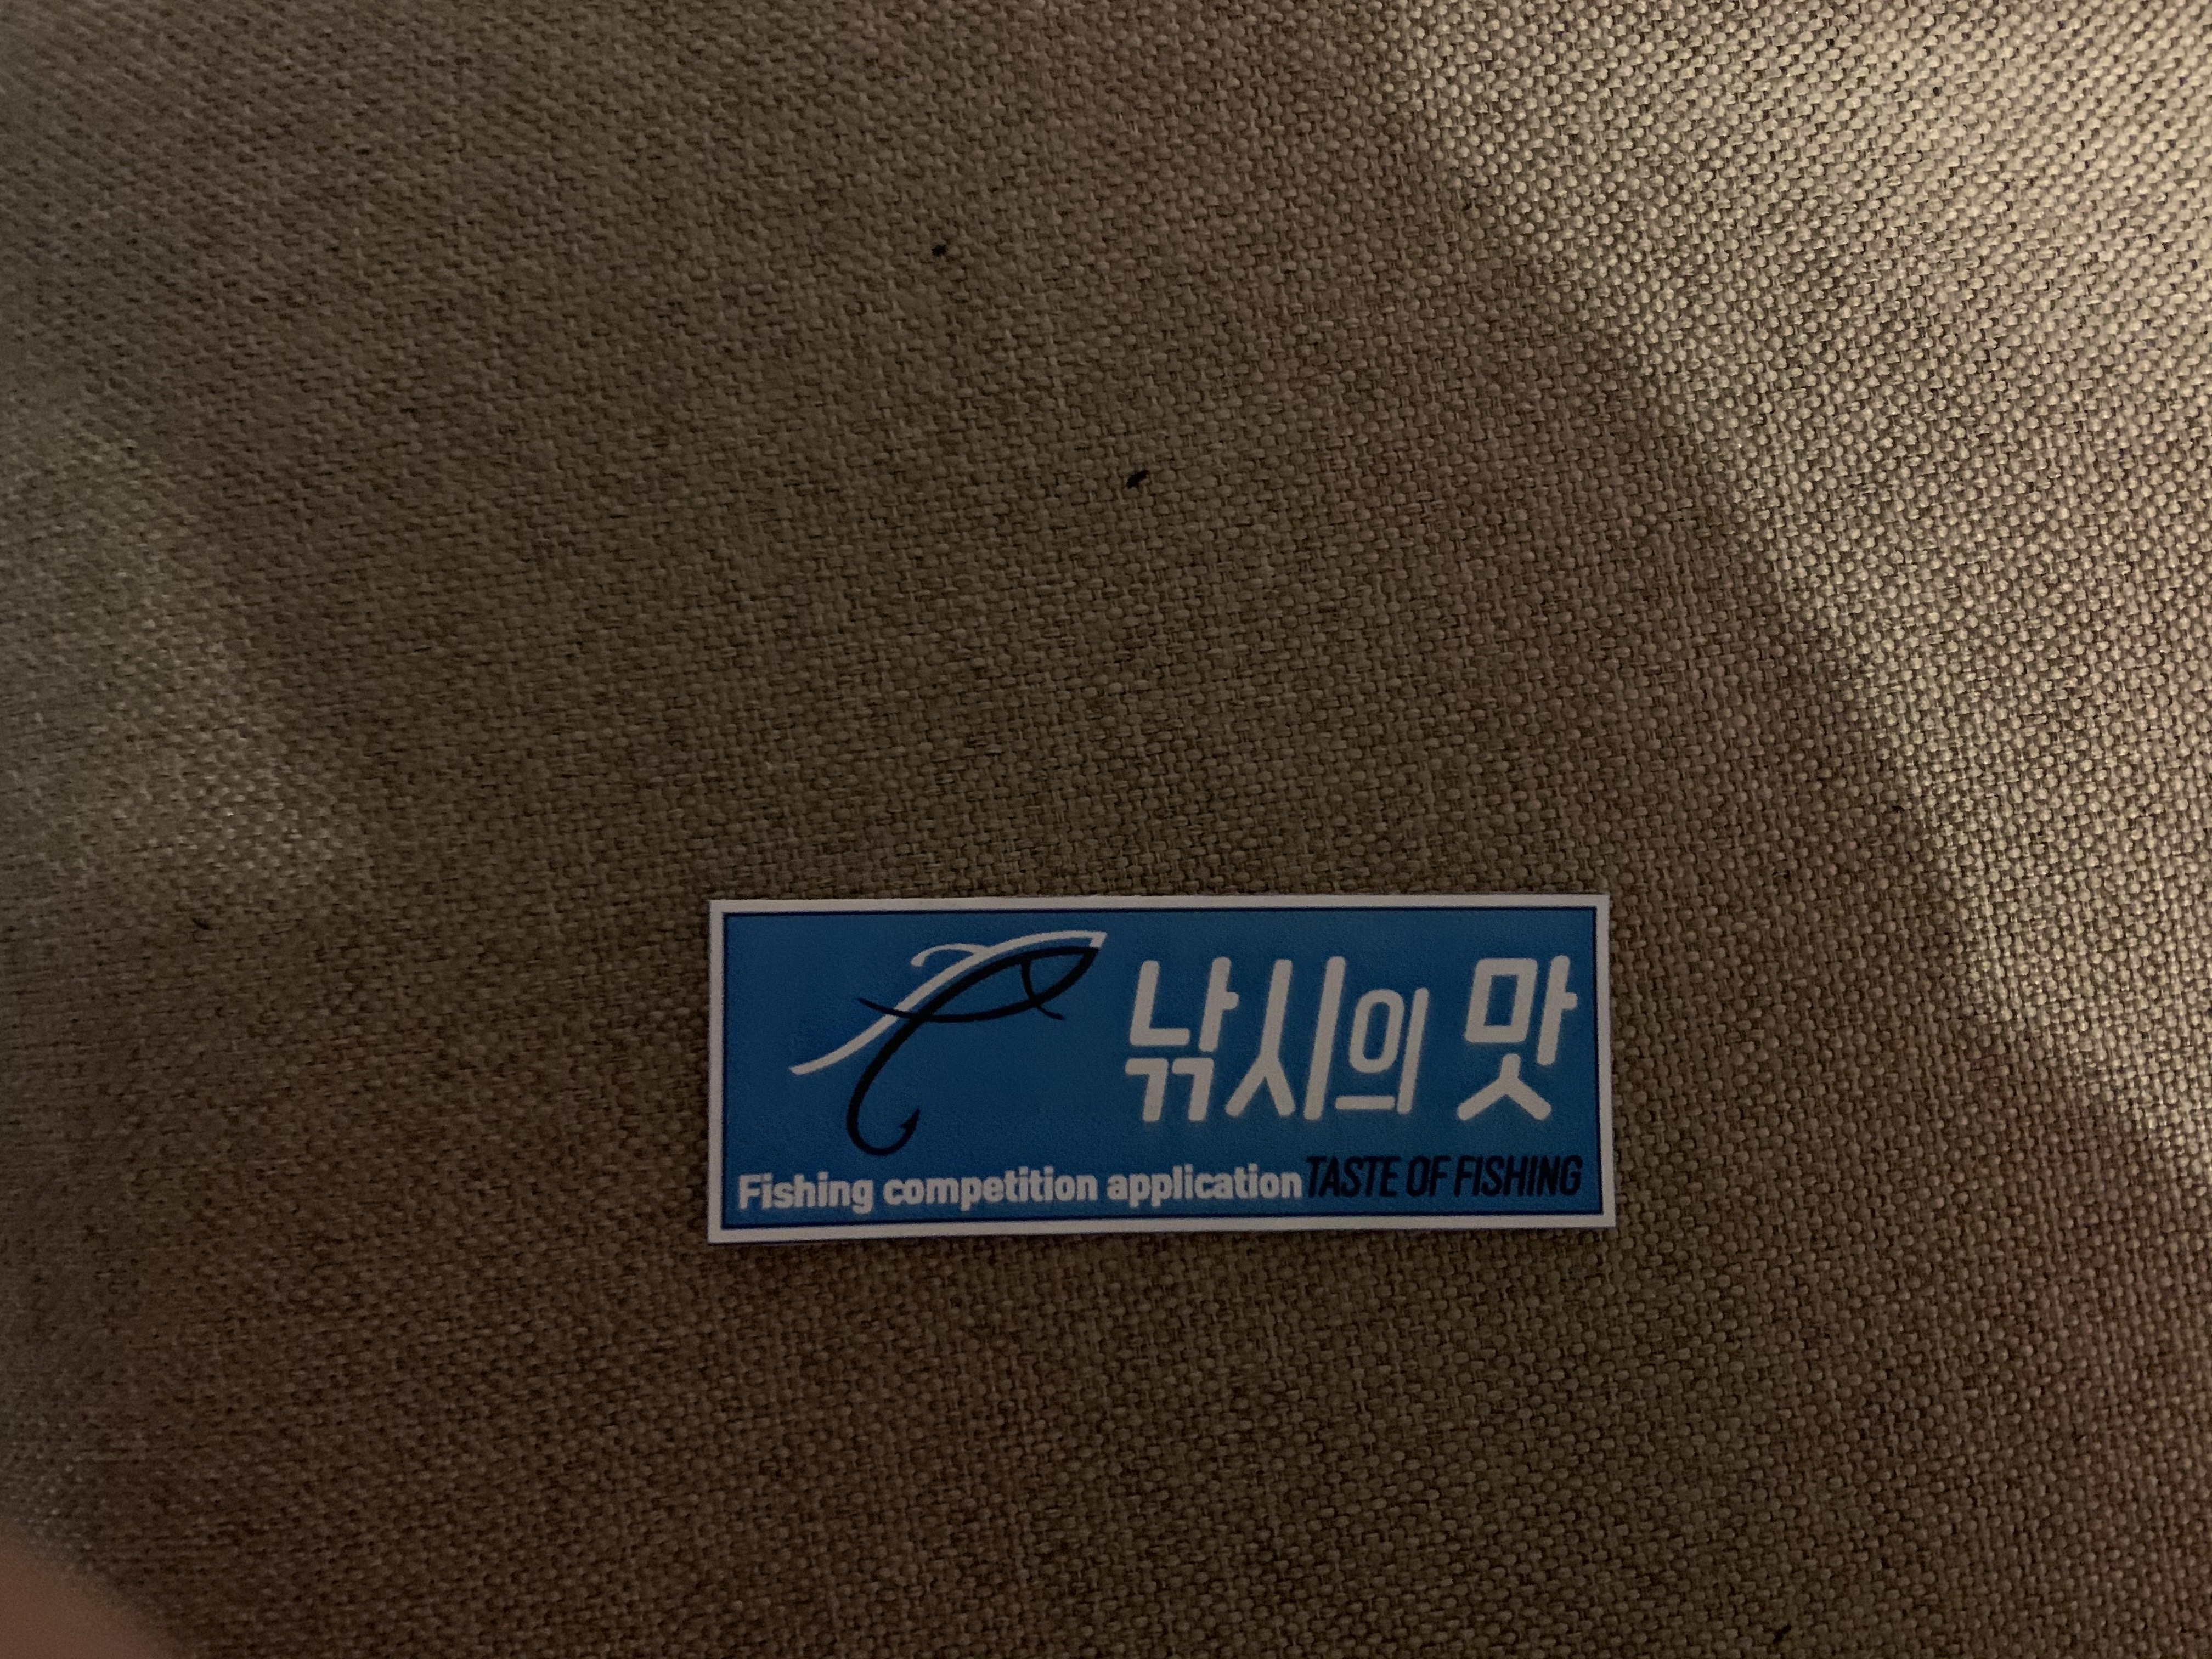tag: (707, 897, 1615, 1244)
